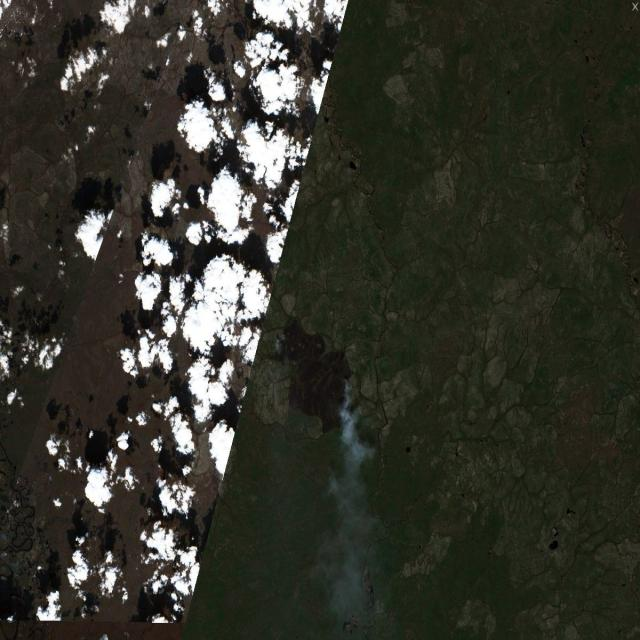fire: (270, 313, 375, 453)
